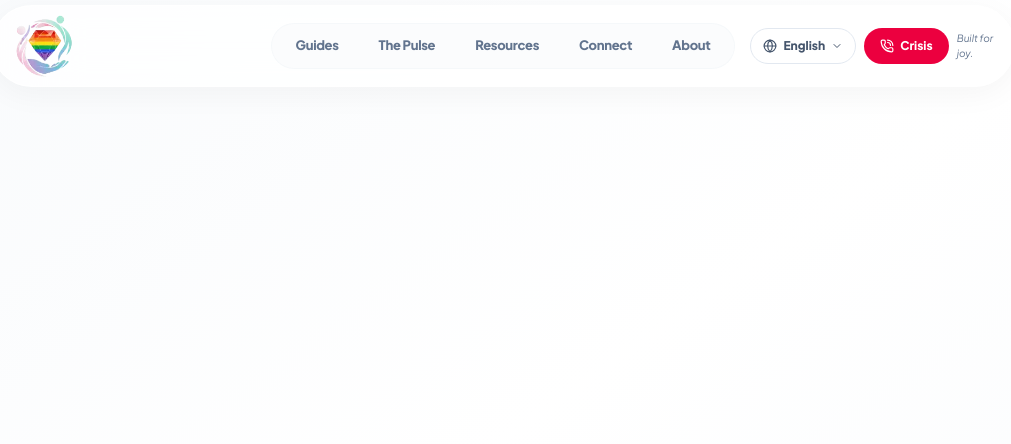
Scenario: Navbar › switches the UI language via the dropdown and persists the choice
Click the button with aria-label "Language". click: (803, 46)
box: [750,28,856,64]
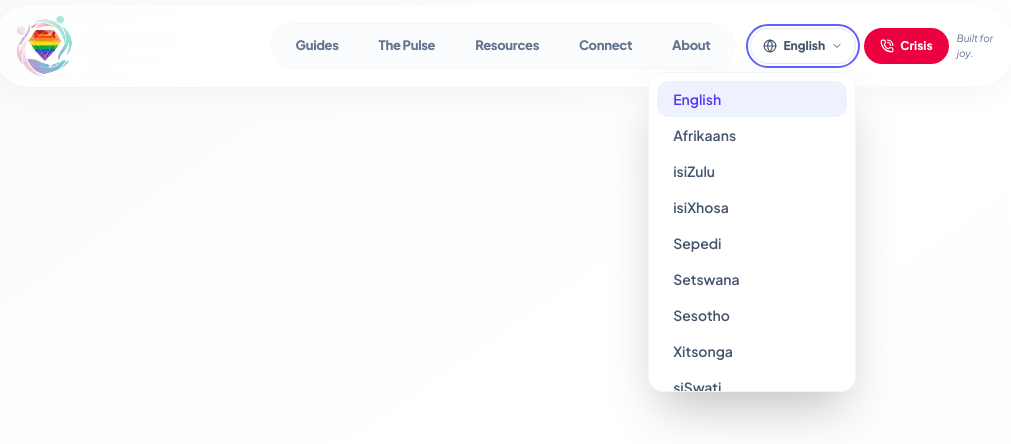
Click the option "isiZulu". click: (752, 171)
box: [657,153,847,189]
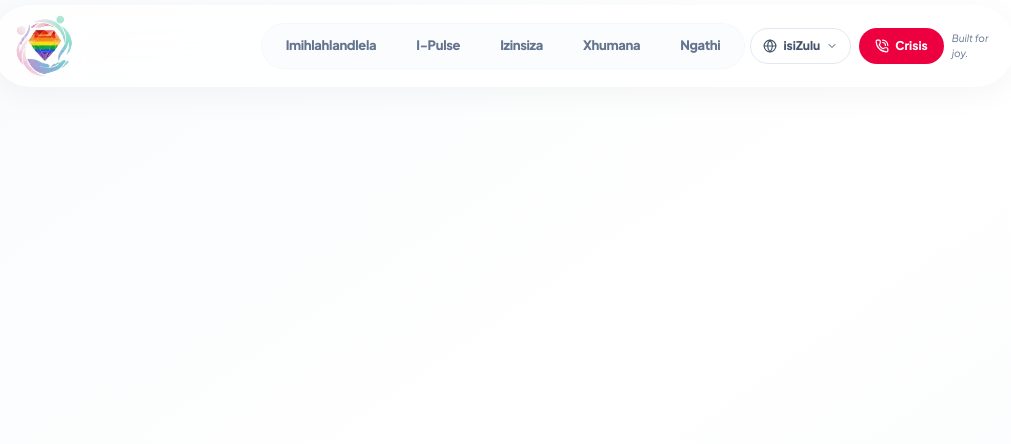
Result: the button "Imihlahlandlela" is shown at [266,28,396,64]
